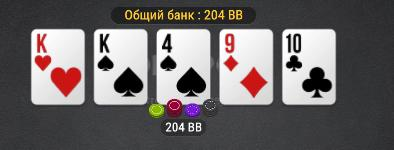10c: (283, 31, 336, 104)
4s: (157, 31, 210, 104)
9d: (221, 30, 271, 104)
Kh: (33, 30, 84, 104)
Ks: (95, 29, 147, 105)
